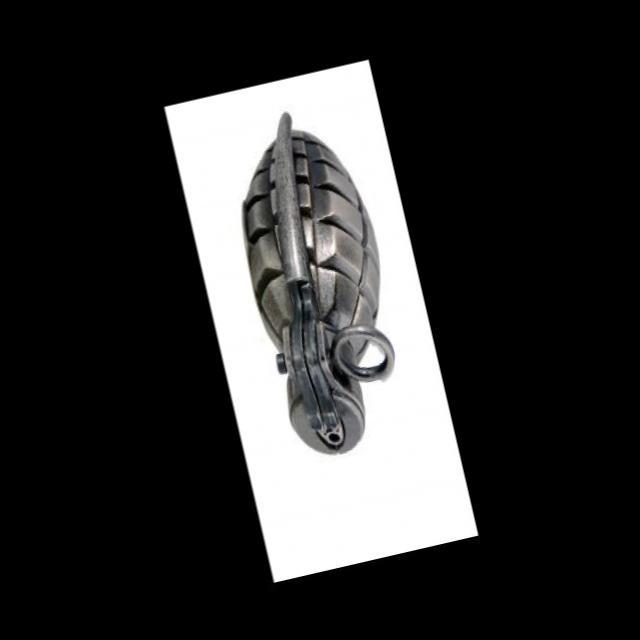grenade: (213, 111, 429, 482)
